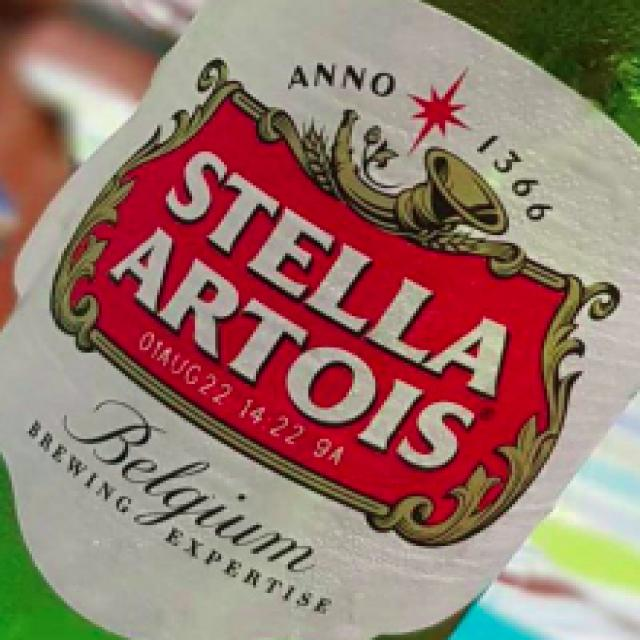Stella Artois 0.0: (0, 2, 640, 640)
